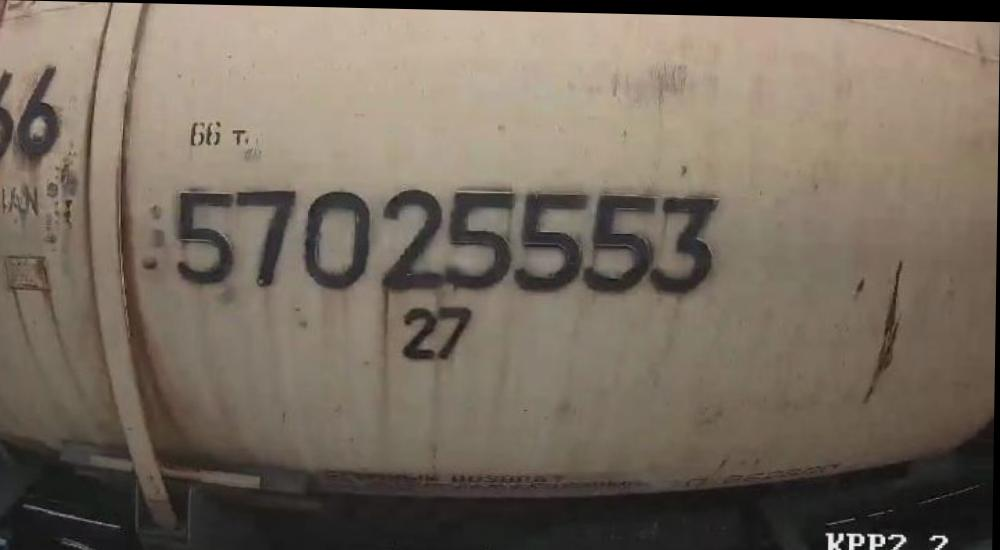Wagon-number: (167, 177, 722, 297)
